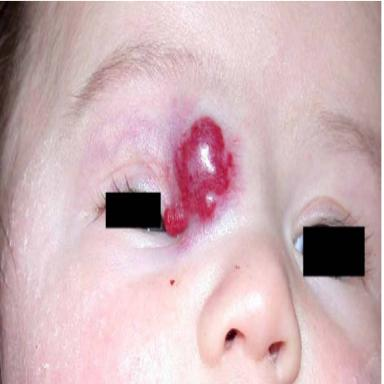Hemangiome: (163, 117, 233, 235)
